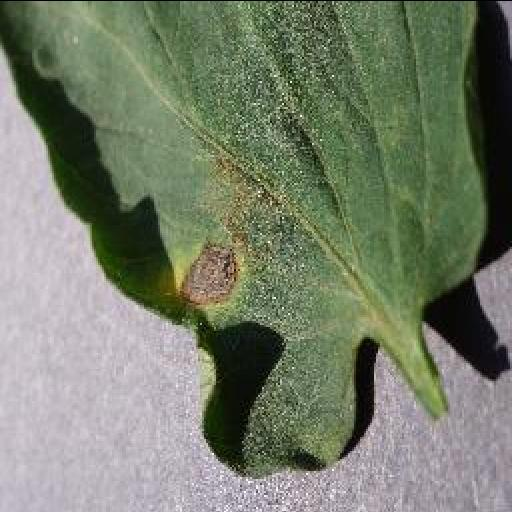disease_tomato: (0, 0, 484, 482)
